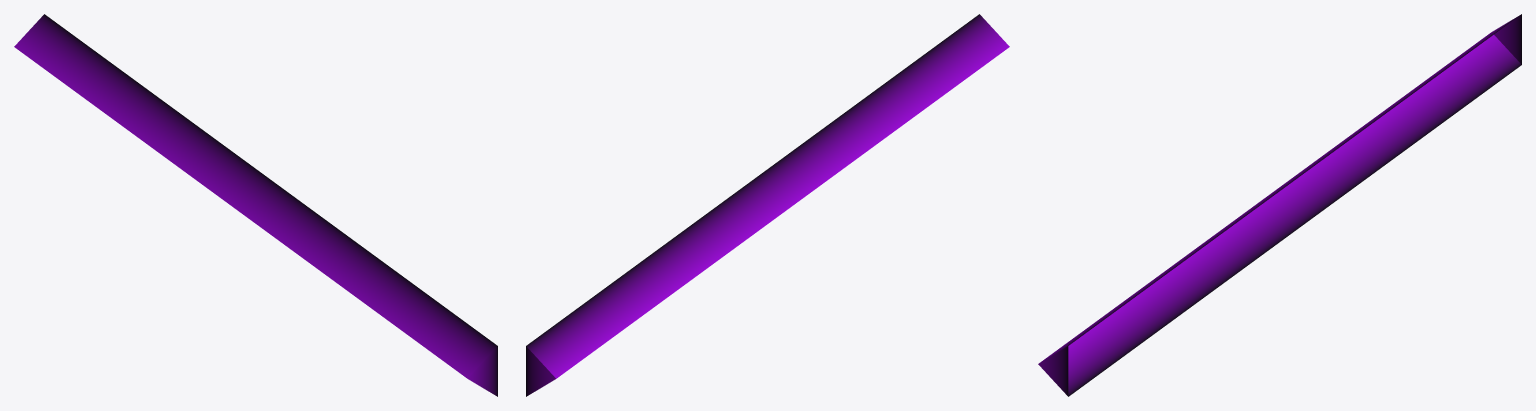
File: Lamp.obj
The picture shows the model from 3 angles, left to right: view 1: azimuth 30°, elevation 25°; view 2: azimuth 150°, elevation 25°; view 3: azimuth 330°, elevation 25°; orthographic projection.
Visible parts, largest first — view 1: Lamp; view 2: Lamp; view 3: Lamp.
Part boxes in pixels (box(x1,y1,x2,y2)): Lamp: box(14, 14, 497, 396); Lamp: box(526, 14, 1009, 396); Lamp: box(1038, 14, 1521, 396).
Size of the model in its own units: 0.2414 by 0.3879 by 6.25.
